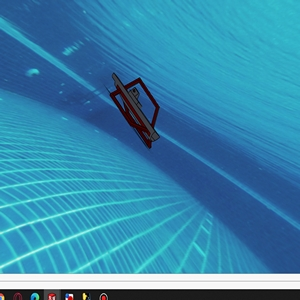submarine: (108, 74, 162, 144)
